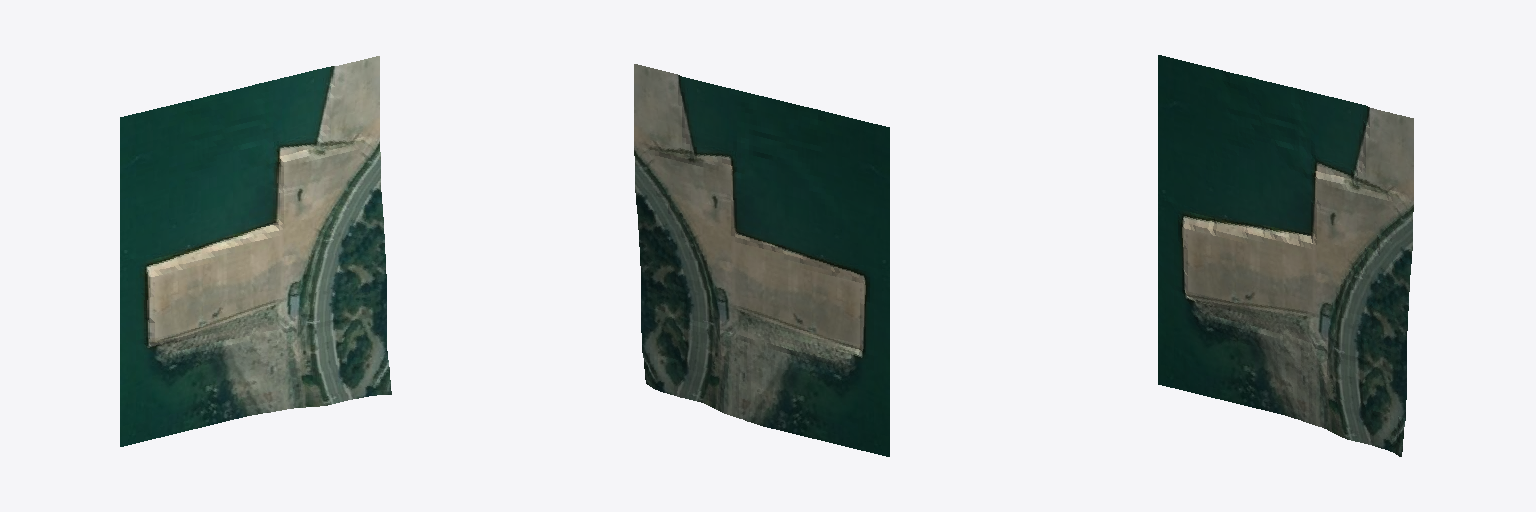
3 views of the same model, side by side, from view 1: azimuth 30°, elevation 25°; view 2: azimuth 150°, elevation 25°; view 3: azimuth 330°, elevation 25° (orthographic).
Visible parts, largest first — view 1: 281395_113918; view 2: 281395_113918; view 3: 281395_113918.
Boxes of the visible parts, box(x1,y1,x2,y2) form: 281395_113918: box(120, 56, 391, 446); 281395_113918: box(634, 64, 889, 456); 281395_113918: box(1158, 55, 1413, 456).
Size of the model in its own units: 122 by 150 by 11.64.
Materials: 1 (1 with a texture image).